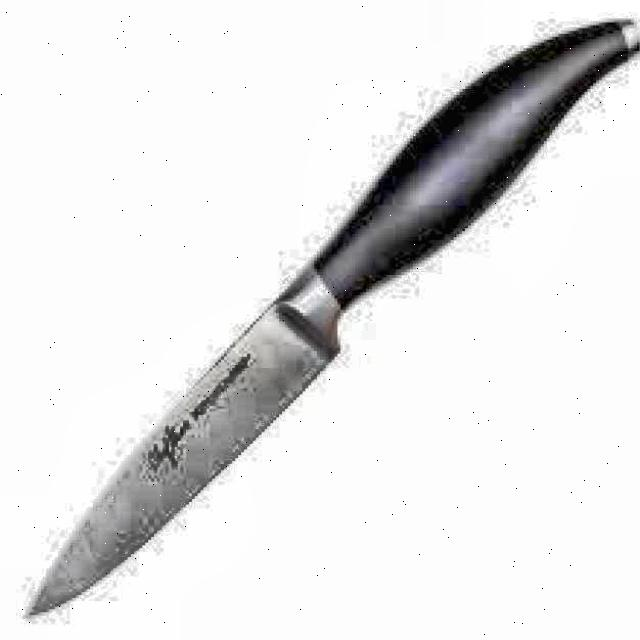knife: (24, 11, 640, 630)
